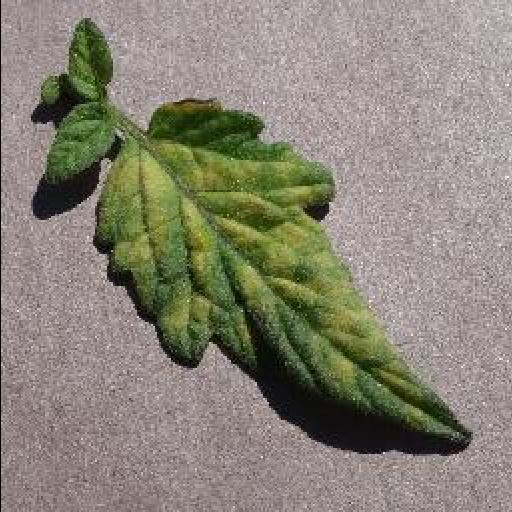disease_tomato: (96, 98, 474, 447)
